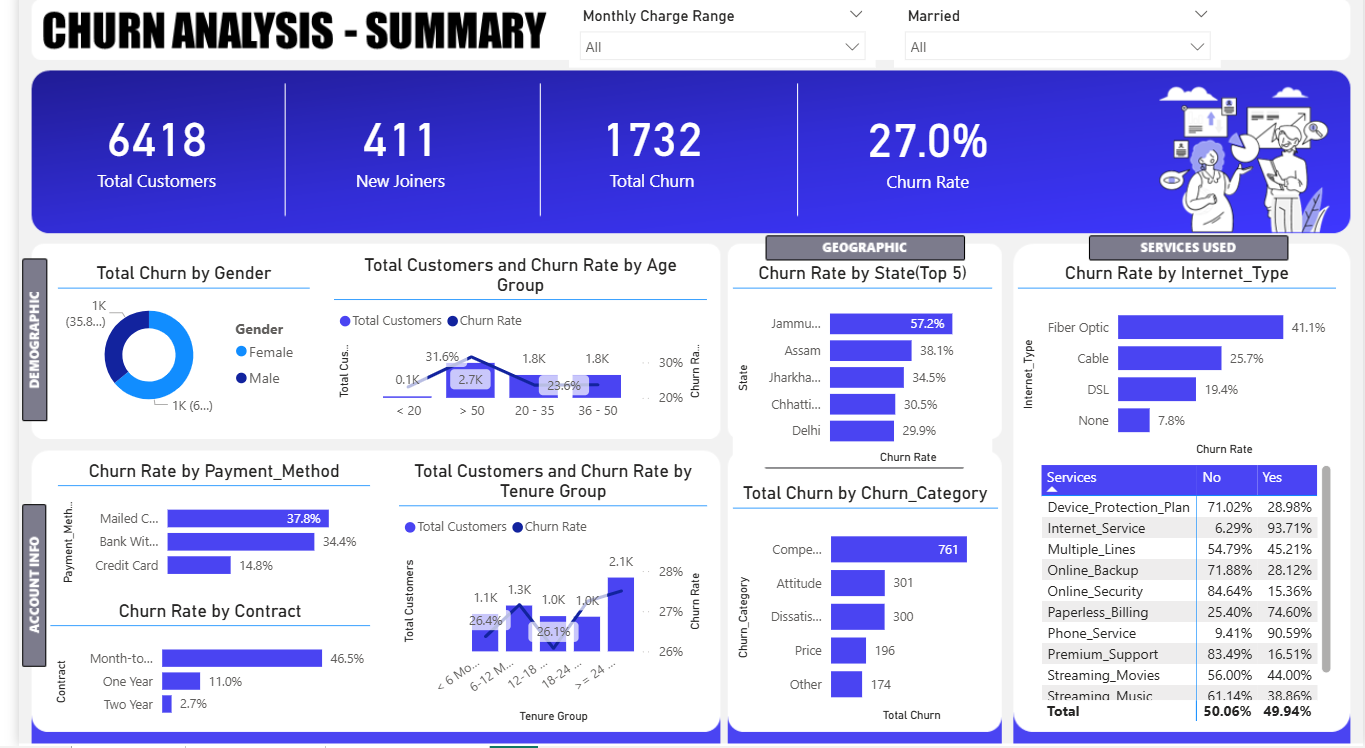

Layout of this report page (visuals, bound fields, positions):
{"tool":"powerbi","page":{"name":"summary","canvas":[1280,720],"ordinal":0},"visuals":[{"type":"card","fields":{"Values":["tbl_Measures.Total Customers"]},"box":[30,82.9,202.9,130],"z":0},{"type":"card","fields":{"Values":["tbl_Measures.Total Churn"]},"box":[512.9,82.9,180,130],"z":1000},{"type":"card","fields":{"Values":["tbl_Measures.New Joiners"]},"box":[261.4,82.9,202.9,130],"z":2000},{"type":"card","fields":{"Values":["tbl_Measures.Churn Rate"]},"box":[764.3,85.7,202.9,127.1],"z":3000},{"type":"donutChart","fields":{"Category":["prod_Churn.Gender"],"Y":["tbl_Measures.Total Churn"]},"box":[37,259.3,240.1,149.6],"z":4000},{"type":"lineStackedColumnComboChart","fields":{"Category":["mapping_AgeGrp.Age Group "],"Y":["tbl_Measures.Total Customers"],"Y2":["tbl_Measures.Churn Rate"]},"box":[300.5,251.1,355.4,166],"z":5000},{"type":"clusteredBarChart","fields":{"Category":["prod_Churn.Payment_Method"],"Y":["tbl_Measures.Churn Rate"]},"box":[37,447.3,297.8,122.1],"z":6000},{"type":"clusteredBarChart","fields":{"Category":["prod_Churn.Contract"],"Y":["tbl_Measures.Churn Rate"]},"box":[30.2,580.4,304.6,120.8],"z":7000},{"type":"lineStackedColumnComboChart","fields":{"Category":["mapping_TenureGrp.Tenure Group "],"Y":["tbl_Measures.Total Customers"],"Y2":["tbl_Measures.Churn Rate"]},"box":[362.3,447.3,293.7,253.9],"z":8000},{"type":"clusteredBarChart","title":"Churn Rate by State(Top 5)","fields":{"Category":["prod_Churn.State"],"Y":["tbl_Measures.Churn Rate"]},"box":[679.2,259.3,247,194.9],"z":9000},{"type":"clusteredBarChart","fields":{"Category":["prod_Churn.Churn_Category"],"Y":["tbl_Measures.Total Churn"]},"box":[679.2,469.3,252.5,231.9],"z":10000},{"type":"clusteredBarChart","fields":{"Category":["prod_Churn.Internet_Type"],"Y":["tbl_Measures.Churn Rate"]},"box":[950.9,259.3,303.3,188],"z":11000},{"type":"pivotTable","title":"Churn by Services","fields":{"Rows":["prod_Services.Services"],"Columns":["prod_Services.Status"],"Values":["Sum(prod_Services.Churn Status)"]},"box":[968.8,447.3,285.4,253.9],"z":12000},{"type":"slicer","fields":{"Values":["prod_Services.Monthly Charge Range"]},"box":[524.2,11,292.3,63.1],"z":13000},{"type":"slicer","fields":{"Values":["prod_Churn.Married"]},"box":[832.9,11,311.5,63.1],"z":14000}]}

Visuals, with their boxes in screenshot pixels (x1, y1, x2, y2), scaled from the page's 1280x720 canvas onto the 1365x748 screenshot:
card - tbl_Measures.Total Customers: pyautogui.locateOnScreen(32, 86, 248, 221)
card - tbl_Measures.Total Churn: pyautogui.locateOnScreen(547, 86, 739, 221)
card - tbl_Measures.New Joiners: pyautogui.locateOnScreen(279, 86, 495, 221)
card - tbl_Measures.Churn Rate: pyautogui.locateOnScreen(815, 89, 1031, 221)
donutChart - prod_Churn.Gender x tbl_Measures.Total Churn: pyautogui.locateOnScreen(39, 269, 296, 425)
lineStackedColumnComboChart - mapping_AgeGrp.Age Group  x tbl_Measures.Total Customers: pyautogui.locateOnScreen(320, 261, 699, 433)
clusteredBarChart - prod_Churn.Payment_Method x tbl_Measures.Churn Rate: pyautogui.locateOnScreen(39, 465, 357, 592)
clusteredBarChart - prod_Churn.Contract x tbl_Measures.Churn Rate: pyautogui.locateOnScreen(32, 603, 357, 728)
lineStackedColumnComboChart - mapping_TenureGrp.Tenure Group  x tbl_Measures.Total Customers: pyautogui.locateOnScreen(386, 465, 700, 728)
"Churn Rate by State(Top 5)" clusteredBarChart: pyautogui.locateOnScreen(724, 269, 988, 472)
clusteredBarChart - prod_Churn.Churn_Category x tbl_Measures.Total Churn: pyautogui.locateOnScreen(724, 488, 994, 728)
clusteredBarChart - prod_Churn.Internet_Type x tbl_Measures.Churn Rate: pyautogui.locateOnScreen(1014, 269, 1337, 465)
"Churn by Services" pivotTable: pyautogui.locateOnScreen(1033, 465, 1337, 728)
slicer - prod_Services.Monthly Charge Range: pyautogui.locateOnScreen(559, 11, 871, 77)
slicer - prod_Churn.Married: pyautogui.locateOnScreen(888, 11, 1220, 77)
